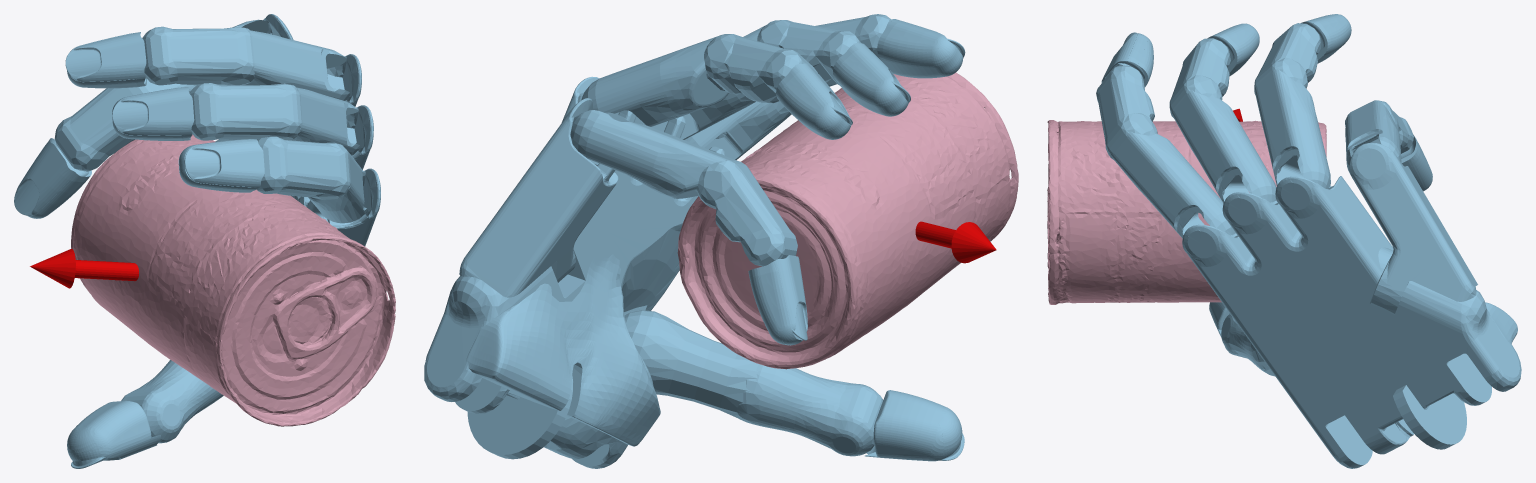
3 renders of one model, left to right at view 1: azimuth 30°, elevation 25°; view 2: azimuth 150°, elevation 25°; view 3: azimuth 270°, elevation 25°, orthographic. The views are drawn at different scales.
Parts seen in each view (by area): view 1: world, tomato_soup_can.stl; view 2: world, tomato_soup_can.stl; view 3: world, tomato_soup_can.stl.
Part boxes in pixels (box(x1,y1,x2,y2)): world: box(14, 14, 380, 468); tomato_soup_can.stl: box(71, 134, 395, 426); world: box(424, 14, 996, 468); tomato_soup_can.stl: box(677, 72, 1018, 369); world: box(1096, 14, 1521, 468); tomato_soup_can.stl: box(1047, 120, 1326, 304).
Bounding box in the file's own units: 0.1531 × 0.1491 × 0.1729.
